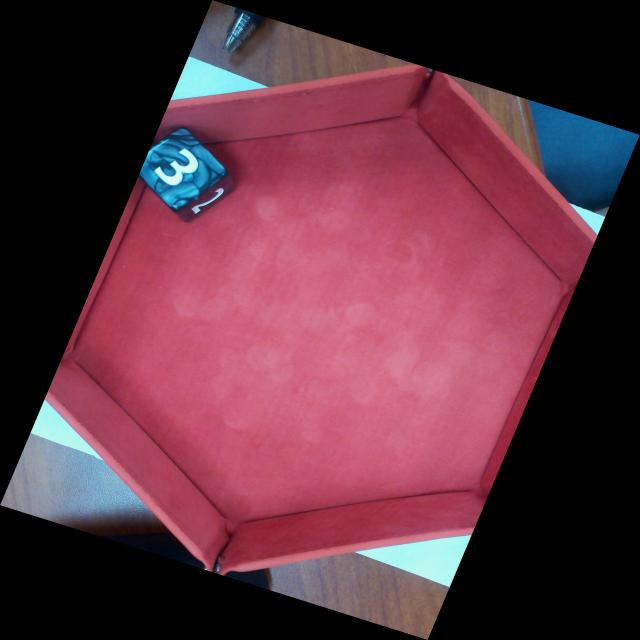dice: (138, 125, 231, 215)
